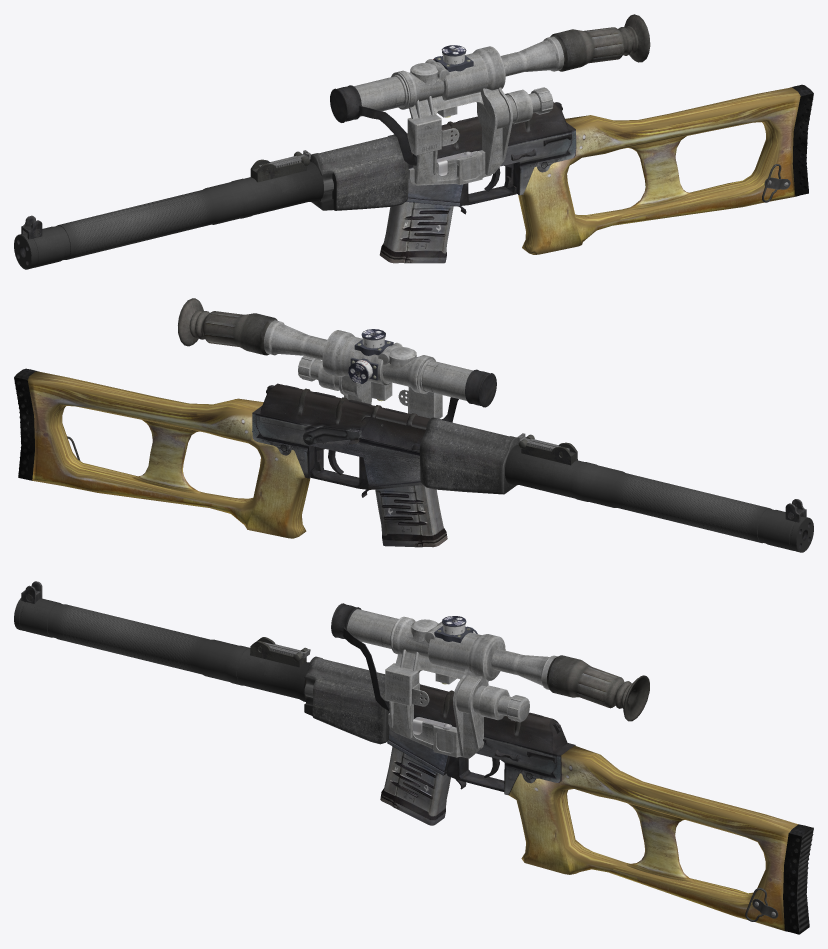
File: винторез!.FBX
The picture shows the model from 3 angles, top to bottom: view 1: azimuth 30°, elevation 25°; view 2: azimuth 150°, elevation 25°; view 3: azimuth 330°, elevation 25°; orthographic projection.
Parts seen in each view (by area): view 1: ______2, _____5, _________, __________, 5, _______, _____7, ____-NURBS, ________, ______3, _____3; view 2: ______2, __________, _________, _____5, 5, _______, _____7, ____-NURBS, ______3, ________, _____3; view 3: ______2, _____5, _________, __________, 5, _____7, _______, ______3, ____-NURBS, ________, _____3.
Part boxes in pixels (left/top/right/bottom): ______2: left=518, top=87, right=800, bottom=254; _____5: left=354, top=36, right=564, bottom=185; _________: left=14, top=161, right=323, bottom=269; __________: left=406, top=102, right=576, bottom=214; 5: left=310, top=134, right=408, bottom=210; _______: left=379, top=202, right=453, bottom=263; _____7: left=550, top=14, right=650, bottom=71; ____-NURBS: left=627, top=136, right=695, bottom=210; ________: left=330, top=85, right=416, bottom=165; ______3: left=790, top=84, right=813, bottom=196; _____3: left=250, top=159, right=306, bottom=182; ______2: left=27, top=371, right=310, bottom=538; __________: left=252, top=383, right=430, bottom=497; _________: left=505, top=445, right=813, bottom=552; _____5: left=264, top=320, right=472, bottom=418; 5: left=419, top=417, right=518, bottom=494; _______: left=375, top=485, right=447, bottom=547; _____7: left=178, top=298, right=277, bottom=355; ____-NURBS: left=132, top=420, right=201, bottom=493; ______3: left=14, top=368, right=38, bottom=480; ________: left=441, top=369, right=496, bottom=422; _____3: left=521, top=442, right=577, bottom=465; ______2: left=509, top=746, right=798, bottom=930; _____5: left=347, top=609, right=557, bottom=758; _________: left=14, top=598, right=309, bottom=701; __________: left=387, top=684, right=575, bottom=795; 5: left=304, top=656, right=389, bottom=744; _____7: left=547, top=655, right=649, bottom=721; _______: left=380, top=746, right=450, bottom=825; ______3: left=783, top=824, right=813, bottom=934; ____-NURBS: left=626, top=803, right=695, bottom=882; ________: left=331, top=603, right=389, bottom=711; _____3: left=250, top=637, right=306, bottom=667.
Bounding box in the file's own units: 1929 × 530 × 158.
